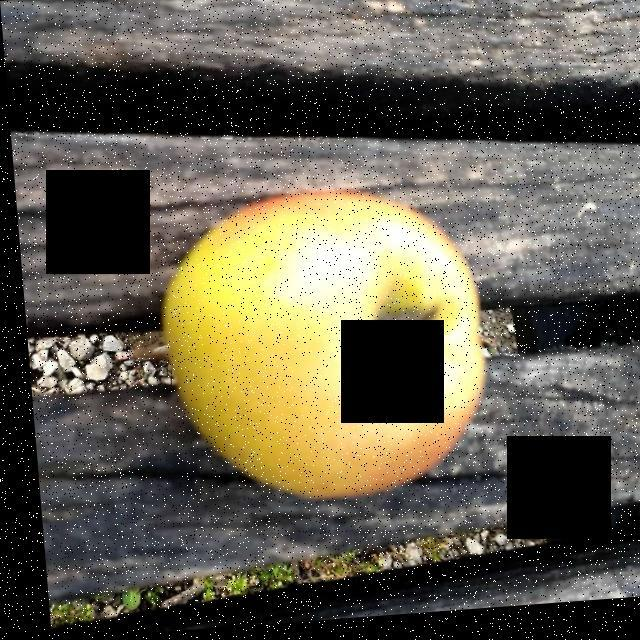apple: (159, 198, 478, 499)
